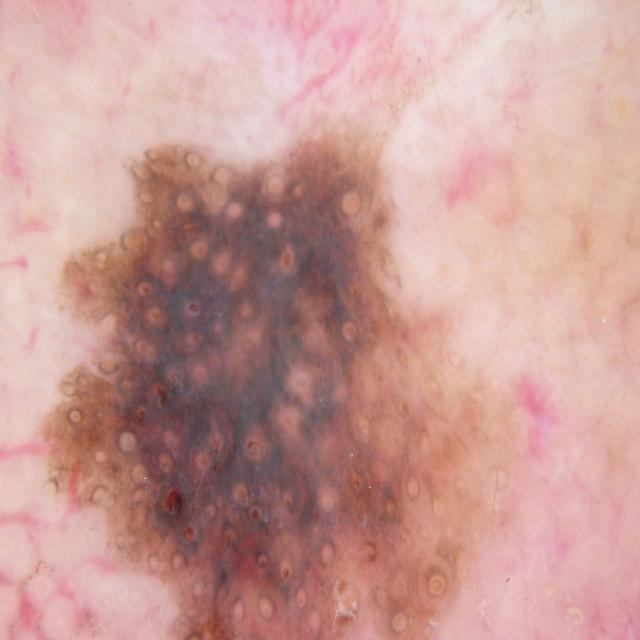Melanoma: (39, 78, 531, 640)
